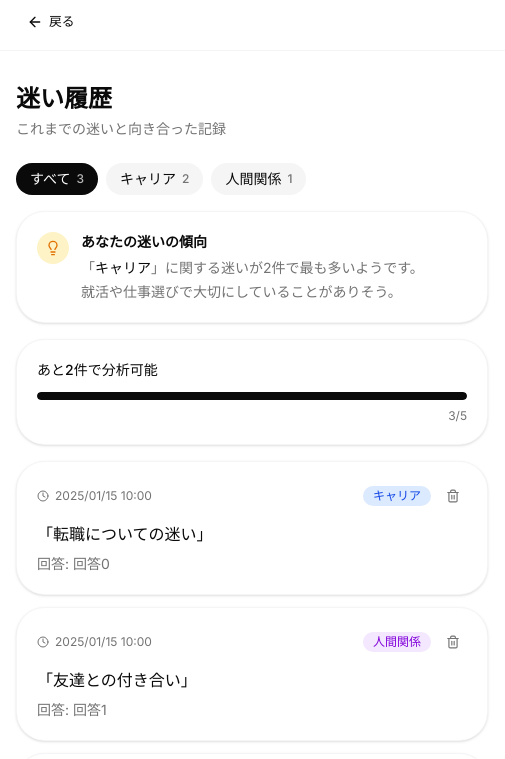
HistoryPage › カテゴリフィルター › カテゴリでフィルターできる
Click the button "キャリア 2".
click(155, 179)  # box left=106, top=163, right=203, bottom=195
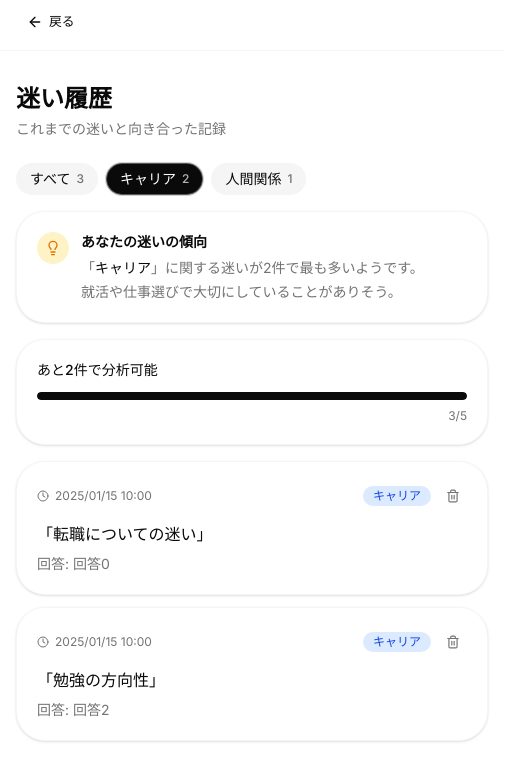
Expected: the text "「転職についての迷い」" is shown, left=37, top=524, right=213, bottom=544
Expected: the text "友達との付き合い" is gone
